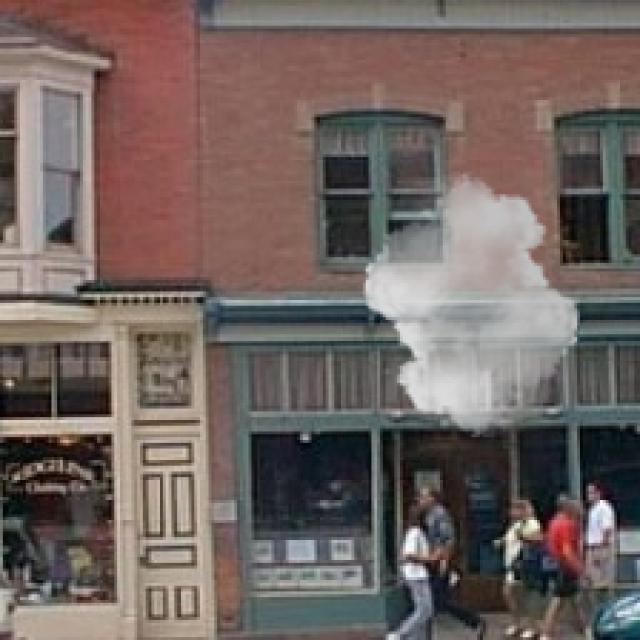smoke: (354, 172, 589, 437)
